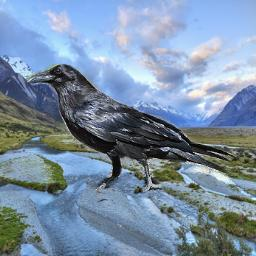Crow: (26, 63, 244, 196)
